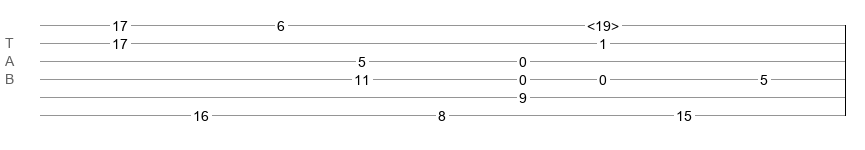0: (519, 54, 527, 64), (519, 72, 527, 82), (599, 72, 607, 82)
1: (599, 36, 607, 46)
11: (354, 72, 370, 82)
15: (676, 108, 692, 118)
16: (193, 108, 209, 118)
17: (112, 36, 128, 46), (112, 18, 128, 28)
5: (358, 54, 366, 64), (760, 72, 768, 82)
6: (277, 18, 285, 28)
8: (438, 108, 446, 118)
9: (519, 90, 527, 100)
harmonic: (587, 18, 619, 28)
